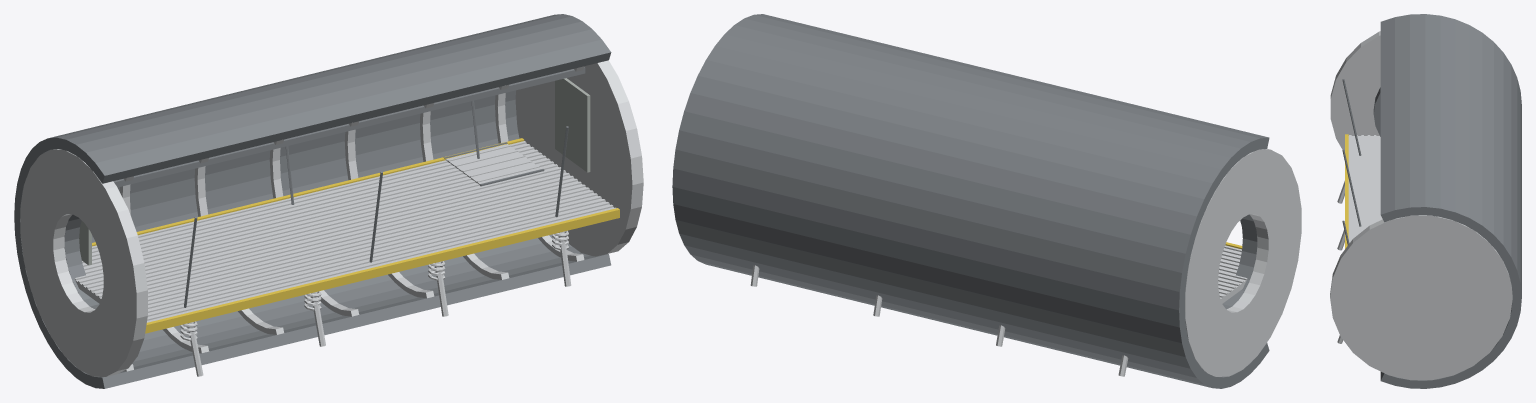
File: cold-war-missile-silo-and-command-bunker-launch-contro-2bf9d78d__15663.glb
The picture shows the model from 3 angles, left to right: view 1: azimuth 30°, elevation 25°; view 2: azimuth 150°, elevation 25°; view 3: azimuth 270°, elevation 25°; orthographic projection. The views are drawn at different scales.
Visible parts, largest first — view 1: launch-control-capsule-cutaway; view 2: launch-control-capsule-cutaway; view 3: launch-control-capsule-cutaway.
Boxes of the visible parts, x1,y1,x2,y2 form: launch-control-capsule-cutaway: [14, 14, 643, 388]; launch-control-capsule-cutaway: [672, 14, 1301, 388]; launch-control-capsule-cutaway: [1330, 14, 1521, 388].
Size of the model in its own units: 9 by 3.96 by 3.78.
